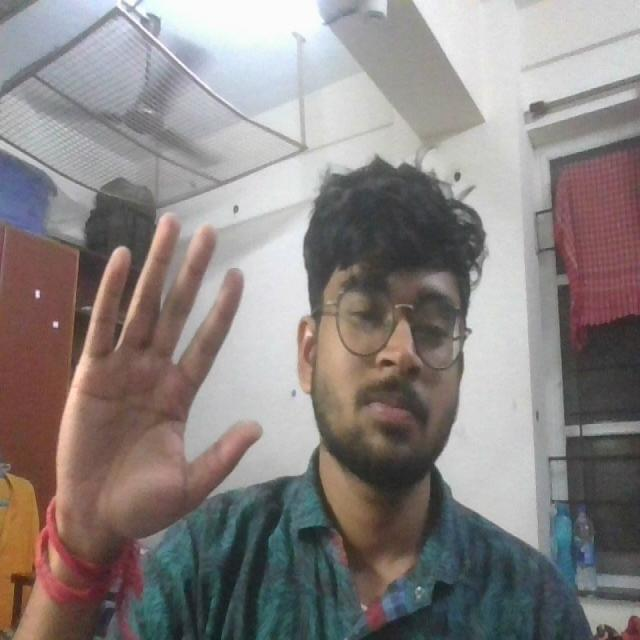Hello: (56, 202, 278, 570)
